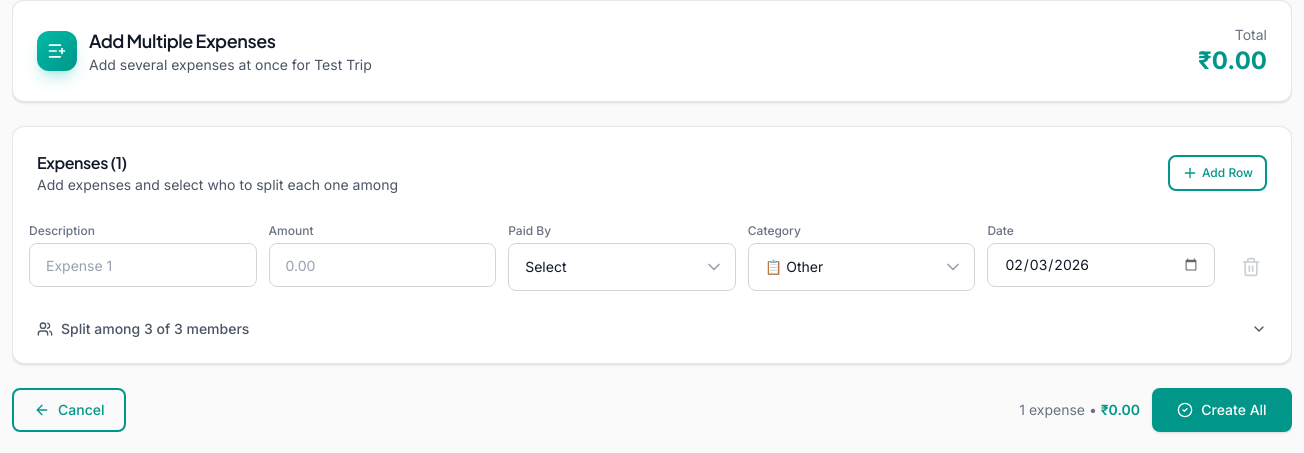
Scenario: BulkExpenseForm › shows validation errors for empty required fields
Click the button "Create All" at point(1222, 410), box [1152,388,1292,432]
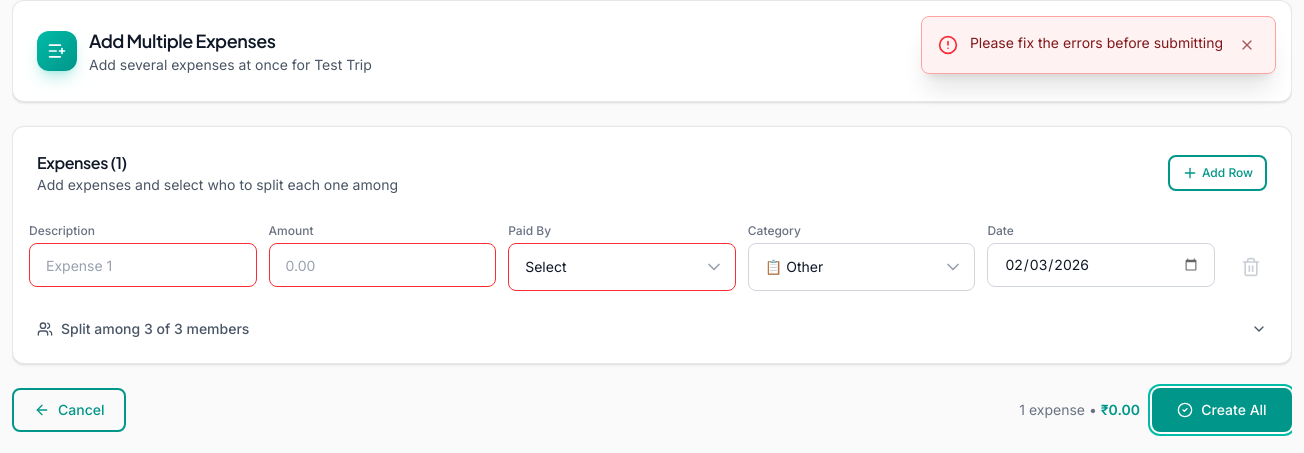
expect the text "Please fix the errors before submitting" is shown: met, box [970,33,1223,53]
